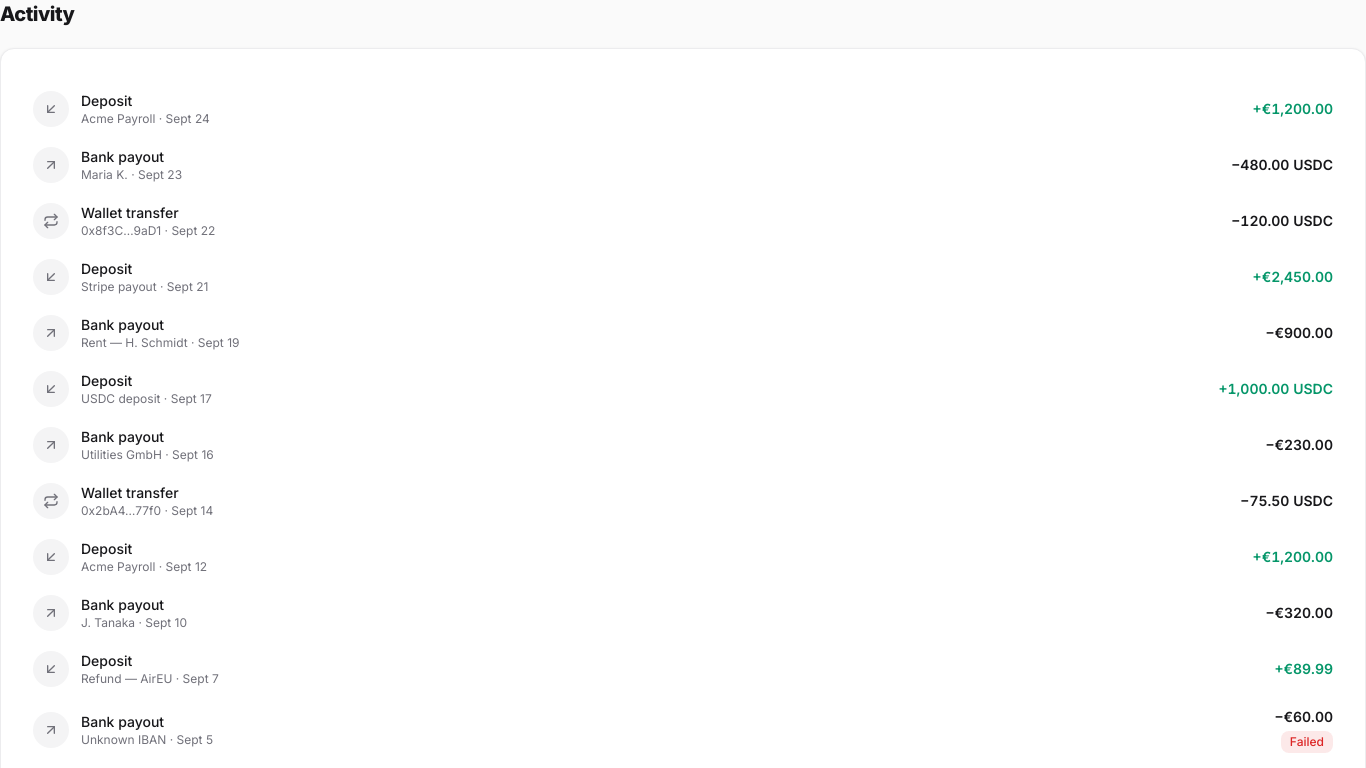
Test: Activity › shows failure reason for failed transfers
Step 1. Click the button "Failed" → (51, 730), box [25,697,1341,763]
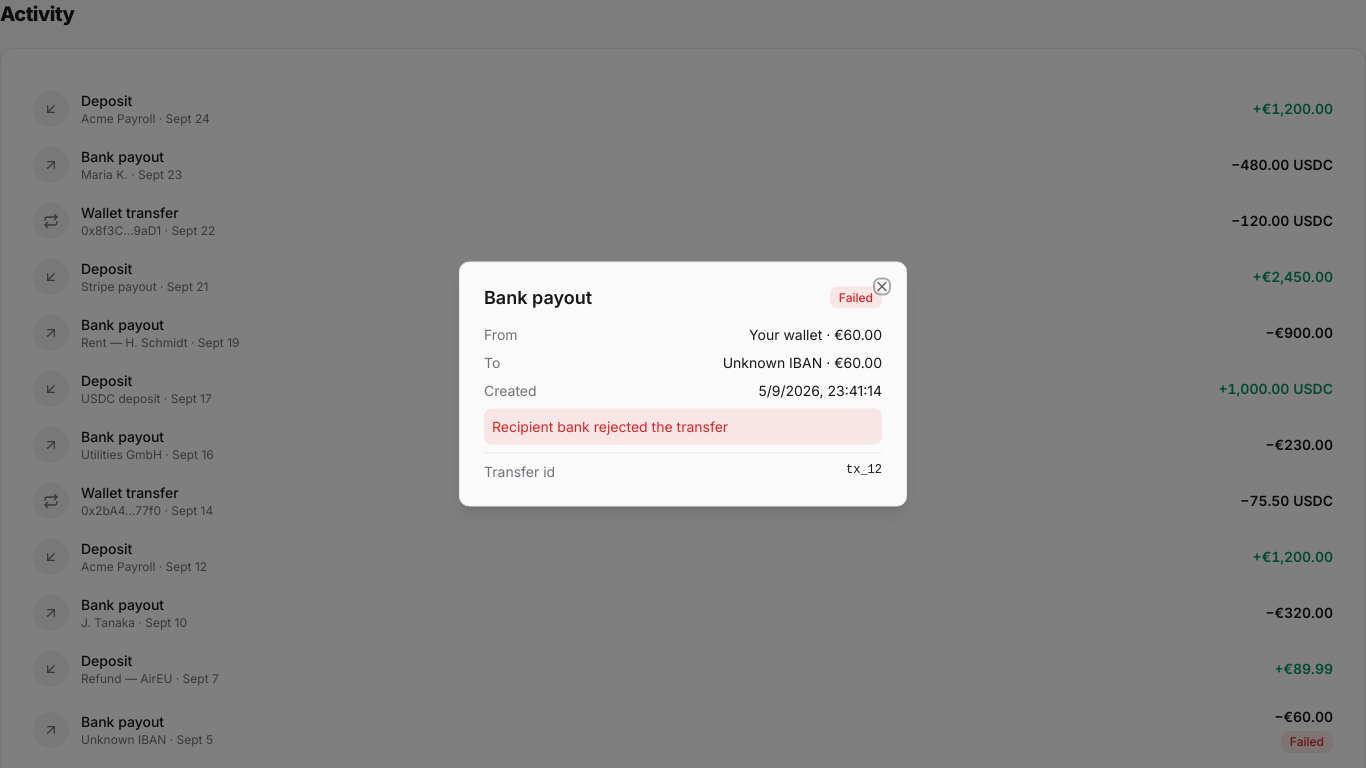
Expected: the text "Recipient bank rejected the transfer" is shown, [484,408,882,444]
